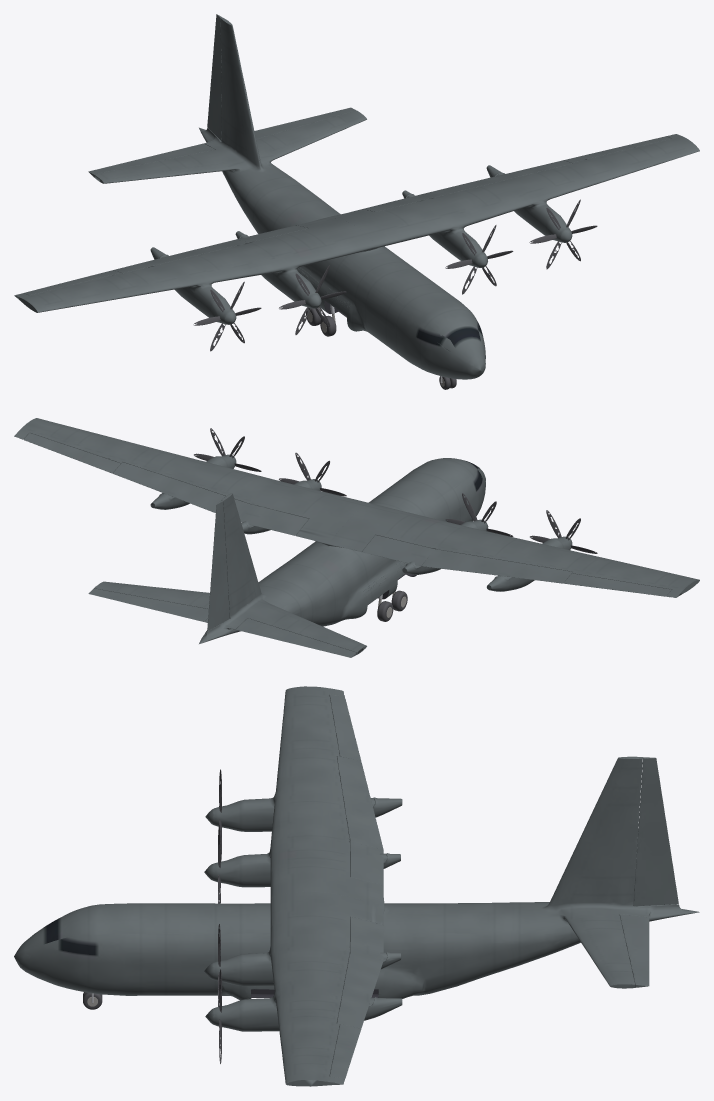
The picture shows the model from 3 angles, top to bottom: view 1: azimuth 30°, elevation 25°; view 2: azimuth 150°, elevation 25°; view 3: azimuth 270°, elevation 25°; orthographic projection. The views are drawn at different scales.
Parts seen in each view (by area): view 1: airframe, fsim:flaps (×2), fsim:elevator (×2), fsim:rudder, fsim:propeller:1, fsim:propeller:3, fsim:propeller:2, fsim:propeller:0; view 2: airframe, fsim:flaps (×2), fsim:elevator (×2), fsim:aileron (×2), fsim:rudder, fsim:propeller:3, fsim:propeller:2, fsim:propeller:0, fsim:propeller:1; view 3: airframe, fsim:flaps (×2), fsim:rudder, fsim:aileron (×2), fsim:elevator.
Part boxes in pixels (x1=…): airframe: x1=14, y1=18, x2=699, y2=379; fsim:flaps (×2): x1=113, y1=160, x2=572, y2=273; fsim:elevator (×2): x1=88, y1=107, x2=355, y2=176; fsim:rudder: x1=207, y1=14, x2=222, y2=140; fsim:propeller:1: x1=279, y1=265, x2=346, y2=334; fsim:propeller:3: x1=193, y1=281, x2=261, y2=351; fsim:propeller:2: x1=529, y1=199, x2=597, y2=269; fsim:propeller:0: x1=445, y1=225, x2=513, y2=294; airframe: x1=14, y1=418, x2=699, y2=654; fsim:flaps (×2): x1=113, y1=462, x2=572, y2=583; fsim:elevator (×2): x1=88, y1=588, x2=356, y2=657; fsim:aileron (×2): x1=23, y1=433, x2=671, y2=596; fsim:rudder: x1=207, y1=500, x2=229, y2=630; fsim:propeller:3: x1=530, y1=510, x2=597, y2=553; fsim:propeller:2: x1=194, y1=428, x2=261, y2=471; fsim:propeller:0: x1=279, y1=452, x2=346, y2=496; fsim:propeller:1: x1=445, y1=493, x2=513, y2=536; airframe: x1=14, y1=686, x2=699, y2=1086; fsim:flaps (×2): x1=337, y1=756, x2=383, y2=1028; fsim:rudder: x1=633, y1=757, x2=678, y2=906; fsim:aileron (×2): x1=329, y1=694, x2=361, y2=1079; fsim:elevator: x1=619, y1=914, x2=649, y2=987.
Size of the model in its own units: 40.42 by 11.95 by 29.76.
5 materials, 1 textured.
